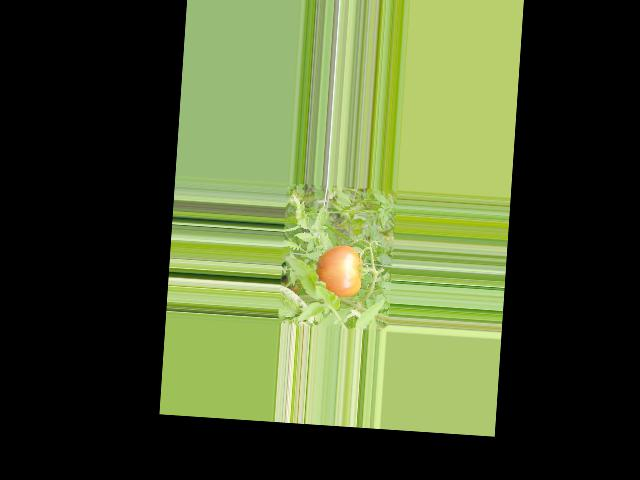tomato: (315, 243, 364, 297)
